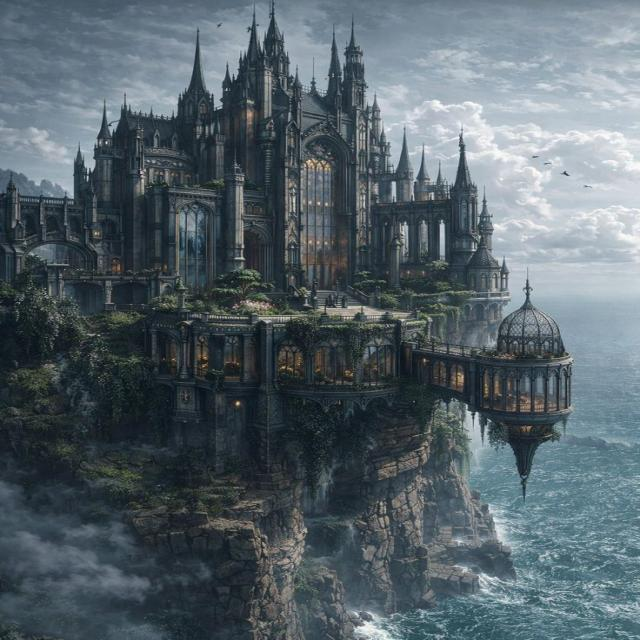castle: (13, 4, 575, 437)
